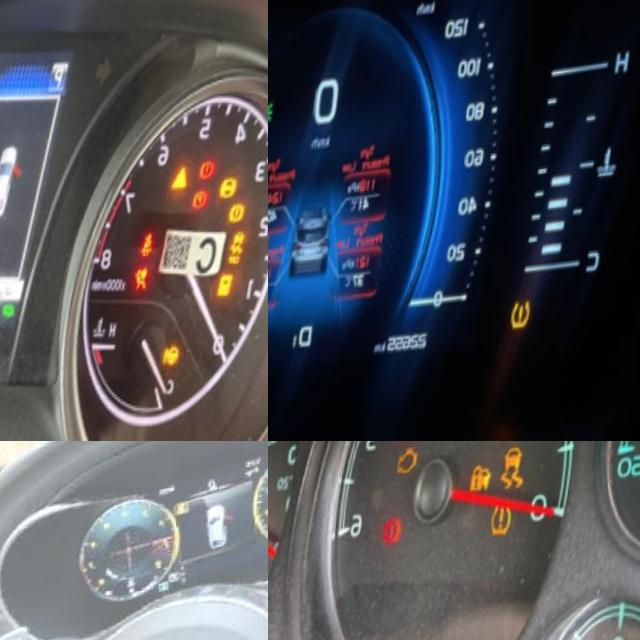Central Warning lamp: (175, 174, 199, 210)
Engine cooling system: (140, 590, 152, 602)
security: (473, 467, 501, 510)
